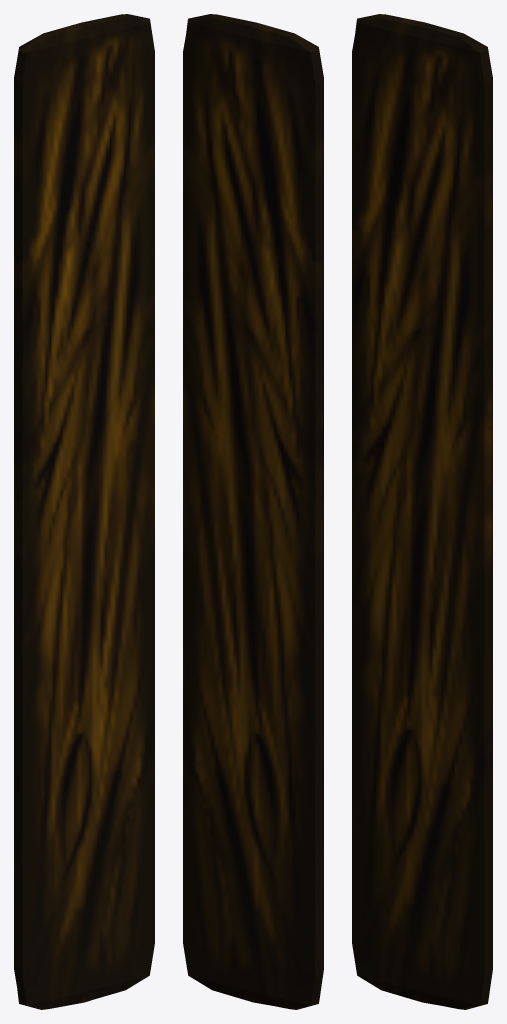
Rendered from BrettUnity.fbx.
The picture shows the model from 3 angles, left to right: view 1: azimuth 30°, elevation 25°; view 2: azimuth 150°, elevation 25°; view 3: azimuth 330°, elevation 25°; orthographic projection.
Parts seen in each view (by area): view 1: Cube; view 2: Cube; view 3: Cube.
Boxes of the visible parts, box(x1,y1,x2,y2) form: Cube: box(14, 14, 154, 1009); Cube: box(183, 14, 323, 1009); Cube: box(352, 14, 492, 1009).
Bounding box in the file's own units: 154 × 1046 × 17.12.
